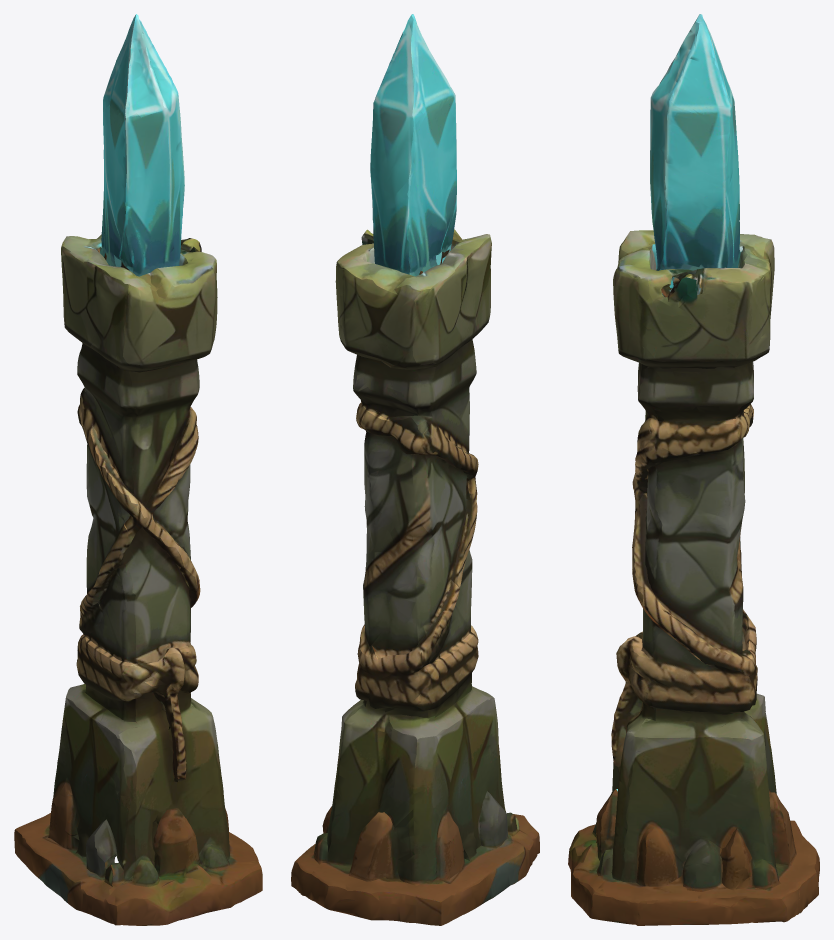
Rendered from struct_light_pillar.glb.
3 views of the same model, side by side, from view 1: azimuth 30°, elevation 25°; view 2: azimuth 150°, elevation 25°; view 3: azimuth 270°, elevation 25° (orthographic).
Visible parts, largest first — view 1: struct_light_pillar; view 2: struct_light_pillar; view 3: struct_light_pillar.
Part boxes in pixels (box(x1,y1,x2,y2)): struct_light_pillar: box(14, 14, 262, 925); struct_light_pillar: box(291, 14, 539, 925); struct_light_pillar: box(568, 14, 819, 925).
Size of the model in its own units: 0.5559 by 2.6 by 0.6829.
Materials: 1 (1 with a texture image).
